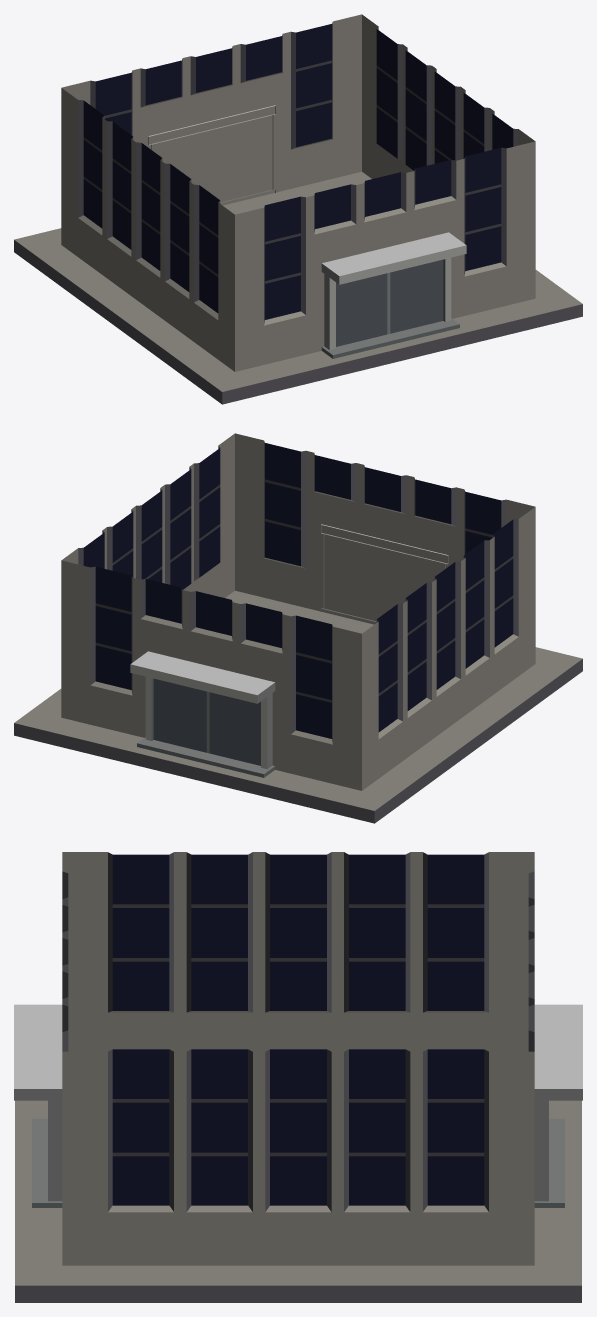
The model's file is TB_CITY_Skysc_M_Bottom_Gray.FBX.
3 views of the same model, one above another, from view 1: azimuth 30°, elevation 25°; view 2: azimuth 150°, elevation 25°; view 3: azimuth 270°, elevation 25° (orthographic). The views are drawn at different scales.
Parts seen in each view (by area): view 1: TB_CITY_Skysc_M_Bottom_Gray; view 2: TB_CITY_Skysc_M_Bottom_Gray; view 3: TB_CITY_Skysc_M_Bottom_Gray.
Boxes of the visible parts, x1,y1,x2,y2 form: TB_CITY_Skysc_M_Bottom_Gray: [14, 14, 582, 404]; TB_CITY_Skysc_M_Bottom_Gray: [14, 433, 582, 823]; TB_CITY_Skysc_M_Bottom_Gray: [14, 852, 582, 1302].
Size of the model in its own units: 24 by 10.8 by 24.09.
